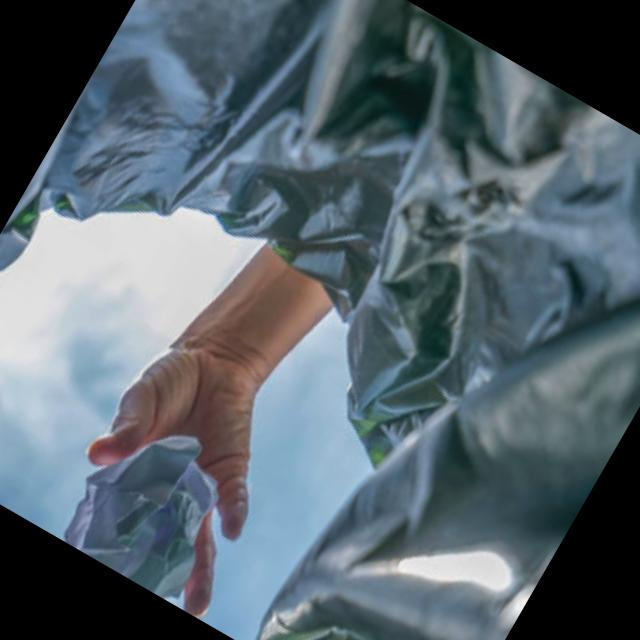KertasBekas: (54, 401, 258, 608)
